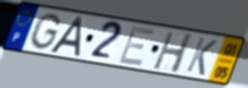2: (86, 20, 125, 65)
A: (47, 15, 85, 59)
E: (116, 25, 157, 68)
G: (27, 12, 63, 51)
H: (151, 30, 195, 75)
K: (184, 36, 219, 78)
